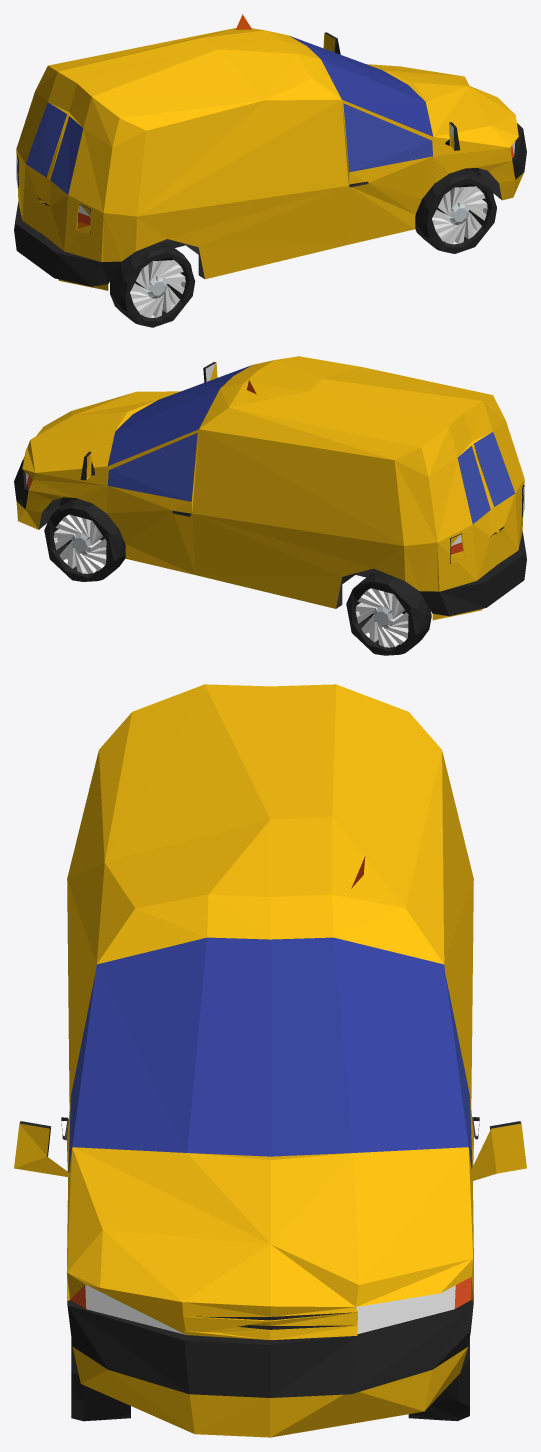
The model's file is car-mini.glb.
3 renders of one model, top to bottom at view 1: azimuth 30°, elevation 25°; view 2: azimuth 150°, elevation 25°; view 3: azimuth 270°, elevation 25°, orthographic. The views are drawn at different scales.
Parts seen in each view (by area): view 1: object 1, Cylinder.093, Cylinder.092; view 2: object 1, Cylinder.093, Cylinder.092; view 3: object 1, Cylinder.092.
Part boxes in pixels (bbox=[...]): object 1: bbox=[14, 14, 526, 290]; Cylinder.093: bbox=[110, 242, 195, 327]; Cylinder.092: bbox=[415, 169, 496, 253]; object 1: bbox=[14, 356, 526, 620]; Cylinder.093: bbox=[346, 572, 431, 655]; Cylinder.092: bbox=[44, 499, 125, 581]; object 1: bbox=[14, 684, 526, 1437]; Cylinder.092: bbox=[71, 1338, 469, 1421].
Size of the model in its own units: 10.22 by 4.52 by 4.96.
1 material, 1 textured.
